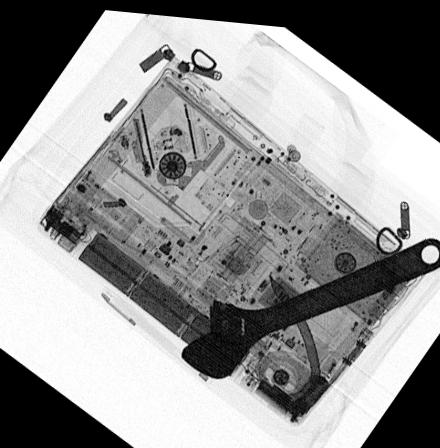Wrench: (177, 227, 440, 374)
